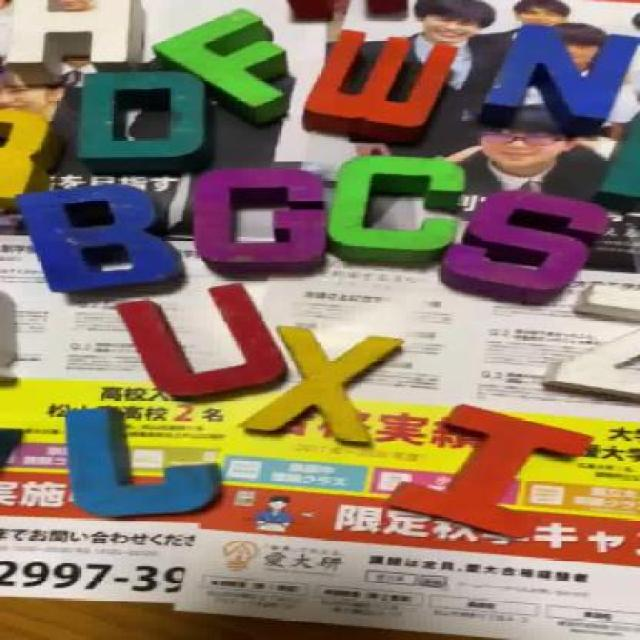B: (15, 184, 177, 293)
C: (340, 154, 465, 254)
D: (70, 68, 219, 167)
F: (164, 13, 296, 110)
G: (193, 167, 325, 279)
I: (403, 405, 574, 546)
N: (487, 22, 631, 122)
S: (448, 191, 610, 291)
U: (120, 285, 275, 400)
W: (315, 32, 453, 132)
X: (248, 326, 404, 443)
